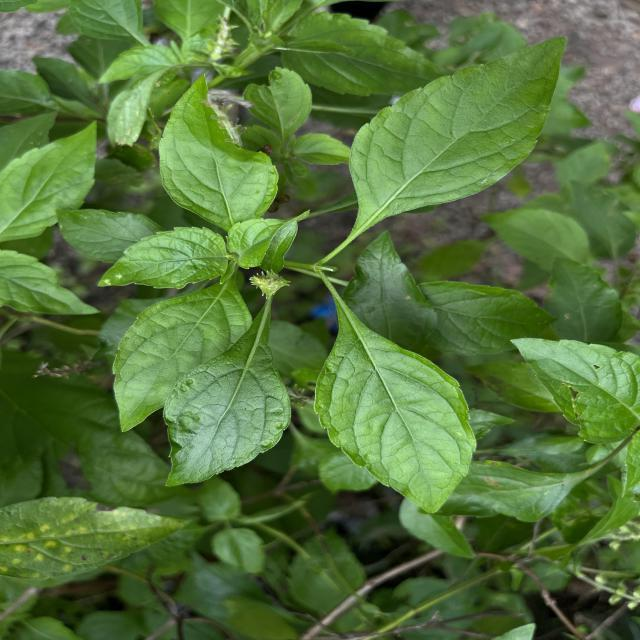Ocimum gratissimum: (342, 30, 571, 252), (312, 268, 481, 516), (157, 297, 296, 493), (110, 275, 253, 436), (152, 71, 282, 227), (508, 334, 640, 450), (0, 116, 102, 244), (91, 225, 236, 294)
